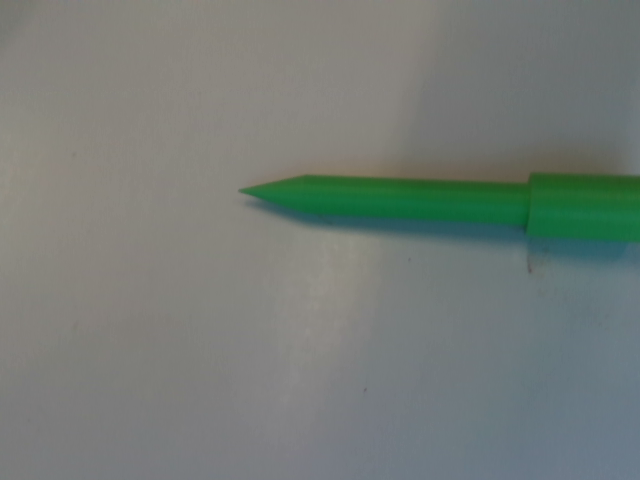Probe: (230, 167, 640, 253)
